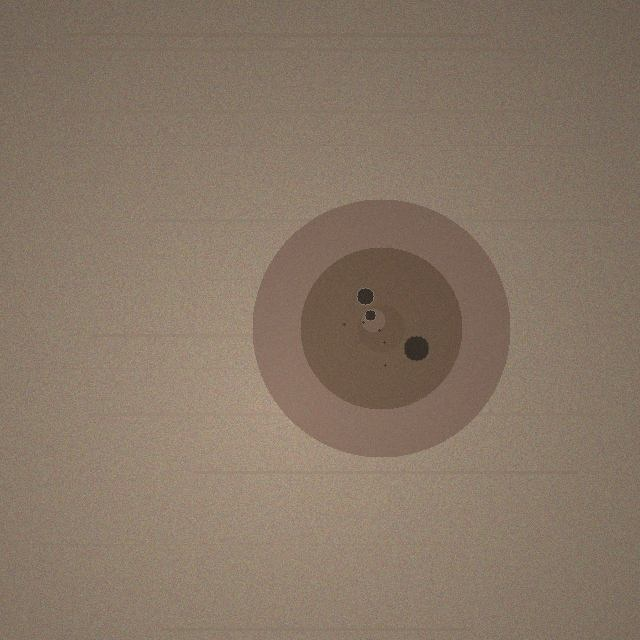shrinkage: (252, 199, 510, 457)
